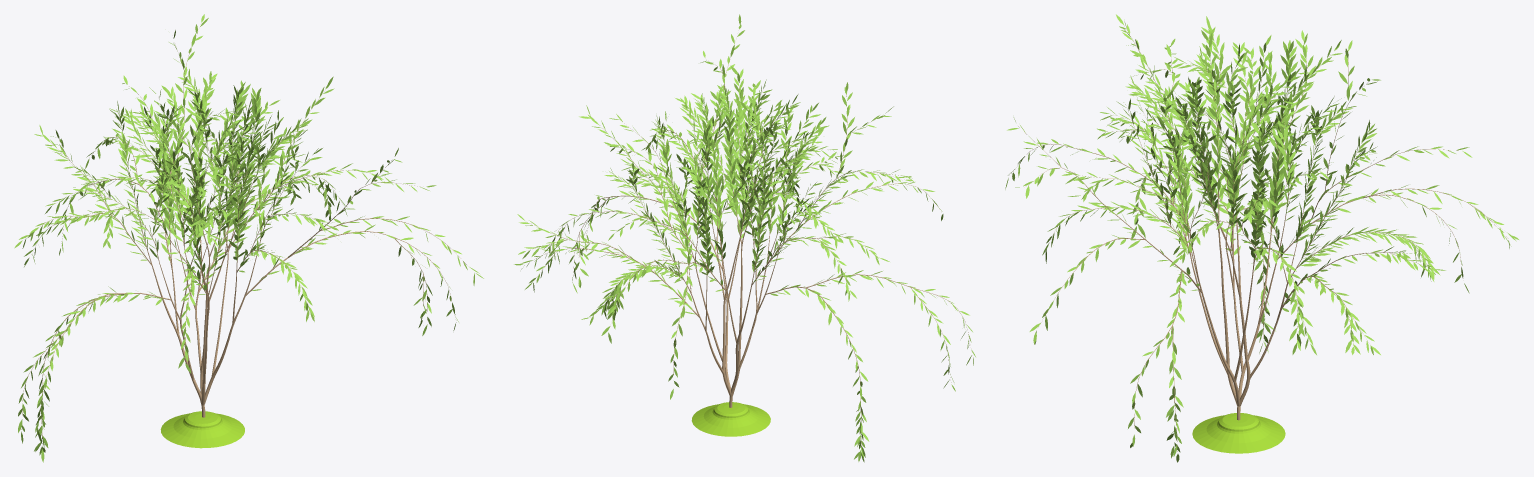
The model's file is weirdtreeSamp.gltf.
3 renders of one model, left to right at view 1: azimuth 30°, elevation 25°; view 2: azimuth 150°, elevation 25°; view 3: azimuth 270°, elevation 25°, orthographic. The views are drawn at different scales.
Visible parts, largest first — view 1: leaves, tree, Sphere; view 2: leaves, tree, Sphere; view 3: leaves, tree, Sphere.
Part boxes in pixels (<box>): leaves: <box>14,14,483,462</box>; tree: <box>21,35,466,438</box>; Sphere: <box>160,411,244,448</box>; leaves: <box>514,14,975,462</box>; tree: <box>533,59,969,445</box>; Sphere: <box>691,402,770,436</box>; leaves: <box>1005,14,1518,462</box>; tree: <box>1011,30,1508,451</box>; Sphere: <box>1192,413,1285,453</box>.
Size of the model in its own units: 24.75 by 20.37 by 23.6.
